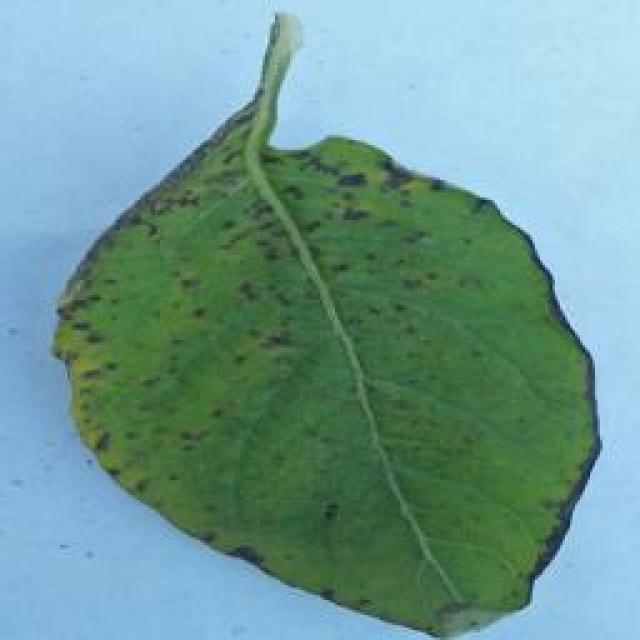Potato_Early_Blight: (46, 102, 601, 640)
